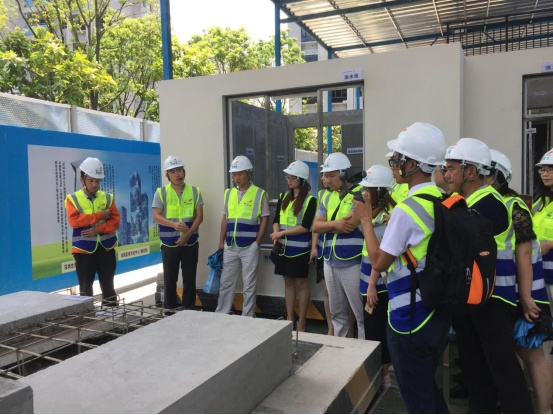white: (392, 122, 445, 184), (442, 134, 491, 192), (360, 164, 392, 204), (77, 156, 105, 193), (321, 152, 349, 189), (229, 154, 254, 187), (283, 161, 309, 191), (163, 154, 186, 186), (534, 148, 553, 185)
